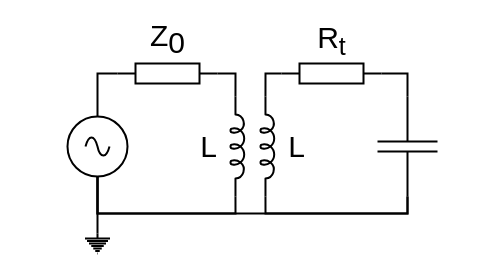
Image size: 499x271. Some labels were removed from this diagram. Each missing label, with the box of its shape:
C t: (376, 95, 438, 197)
RF: (66, 115, 128, 177)
